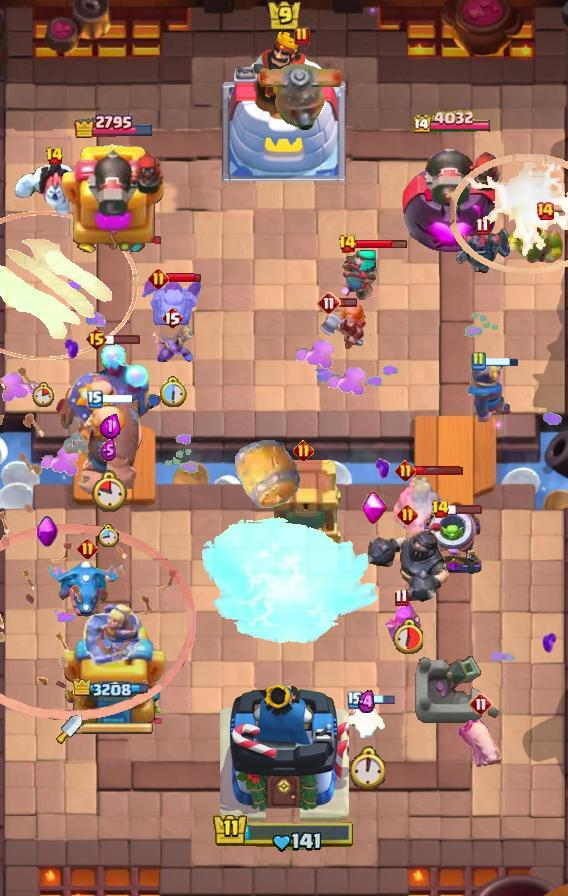balloon: (74, 398, 142, 500)
bar: (59, 595, 169, 731)
barbarian-evolution: (450, 153, 568, 275)
bat: (345, 700, 387, 742)
battle-ram: (451, 227, 513, 275)
bomb: (264, 459, 342, 547)
clock: (212, 812, 356, 854)
dark-prince: (260, 43, 344, 131)
dirt: (231, 434, 301, 510)
electro-spirit: (99, 413, 121, 439), (357, 690, 375, 714), (99, 439, 117, 461)
elixir: (347, 747, 384, 790), (92, 470, 128, 512), (393, 618, 423, 654), (158, 376, 186, 408), (32, 381, 54, 406), (98, 524, 119, 547)
emote: (355, 238, 408, 249), (414, 465, 464, 476), (166, 272, 202, 284), (105, 333, 141, 345), (447, 503, 483, 515), (360, 694, 396, 706), (485, 357, 520, 368), (101, 394, 134, 404), (338, 297, 358, 308)
evolution-symbol: (381, 602, 421, 654)
firecracker: (468, 357, 512, 423)
flying-machine: (508, 221, 568, 275)
giant: (455, 717, 507, 771)
goblin-cage: (421, 507, 485, 577)
graveyard: (48, 558, 126, 620)
hog-rider: (317, 303, 367, 351)
ice-wizard: (0, 211, 138, 360)
king-tower: (219, 678, 349, 826), (222, 31, 346, 181)
king-tower-bar: (82, 722, 154, 736)
little-prince: (56, 343, 164, 469)
mega-knight: (197, 514, 381, 650)
mini-pekka: (140, 277, 204, 325)
mortar-evolution: (391, 476, 449, 544)
rage: (13, 160, 95, 218)
royal-delivery: (150, 324, 194, 370)
royal-guardian: (362, 521, 452, 605)
selected: (73, 112, 155, 138), (414, 110, 495, 136), (73, 679, 155, 701)
skeleton-barrel: (0, 363, 196, 722)
skeleton-king-skill: (361, 491, 387, 525), (35, 515, 58, 549)
text: (317, 291, 341, 315), (469, 692, 493, 716), (84, 327, 107, 351), (161, 306, 183, 330), (147, 267, 169, 289), (293, 439, 314, 461), (78, 537, 99, 559), (396, 460, 417, 481), (398, 504, 419, 525), (535, 201, 555, 221), (338, 234, 358, 254), (430, 499, 450, 519), (44, 146, 63, 166), (294, 26, 310, 46), (470, 351, 486, 371), (87, 390, 103, 408), (347, 691, 363, 709), (395, 589, 410, 608), (475, 217, 490, 235)
tower-bar: (60, 138, 168, 256), (401, 138, 505, 256)
witch: (339, 248, 379, 300)
